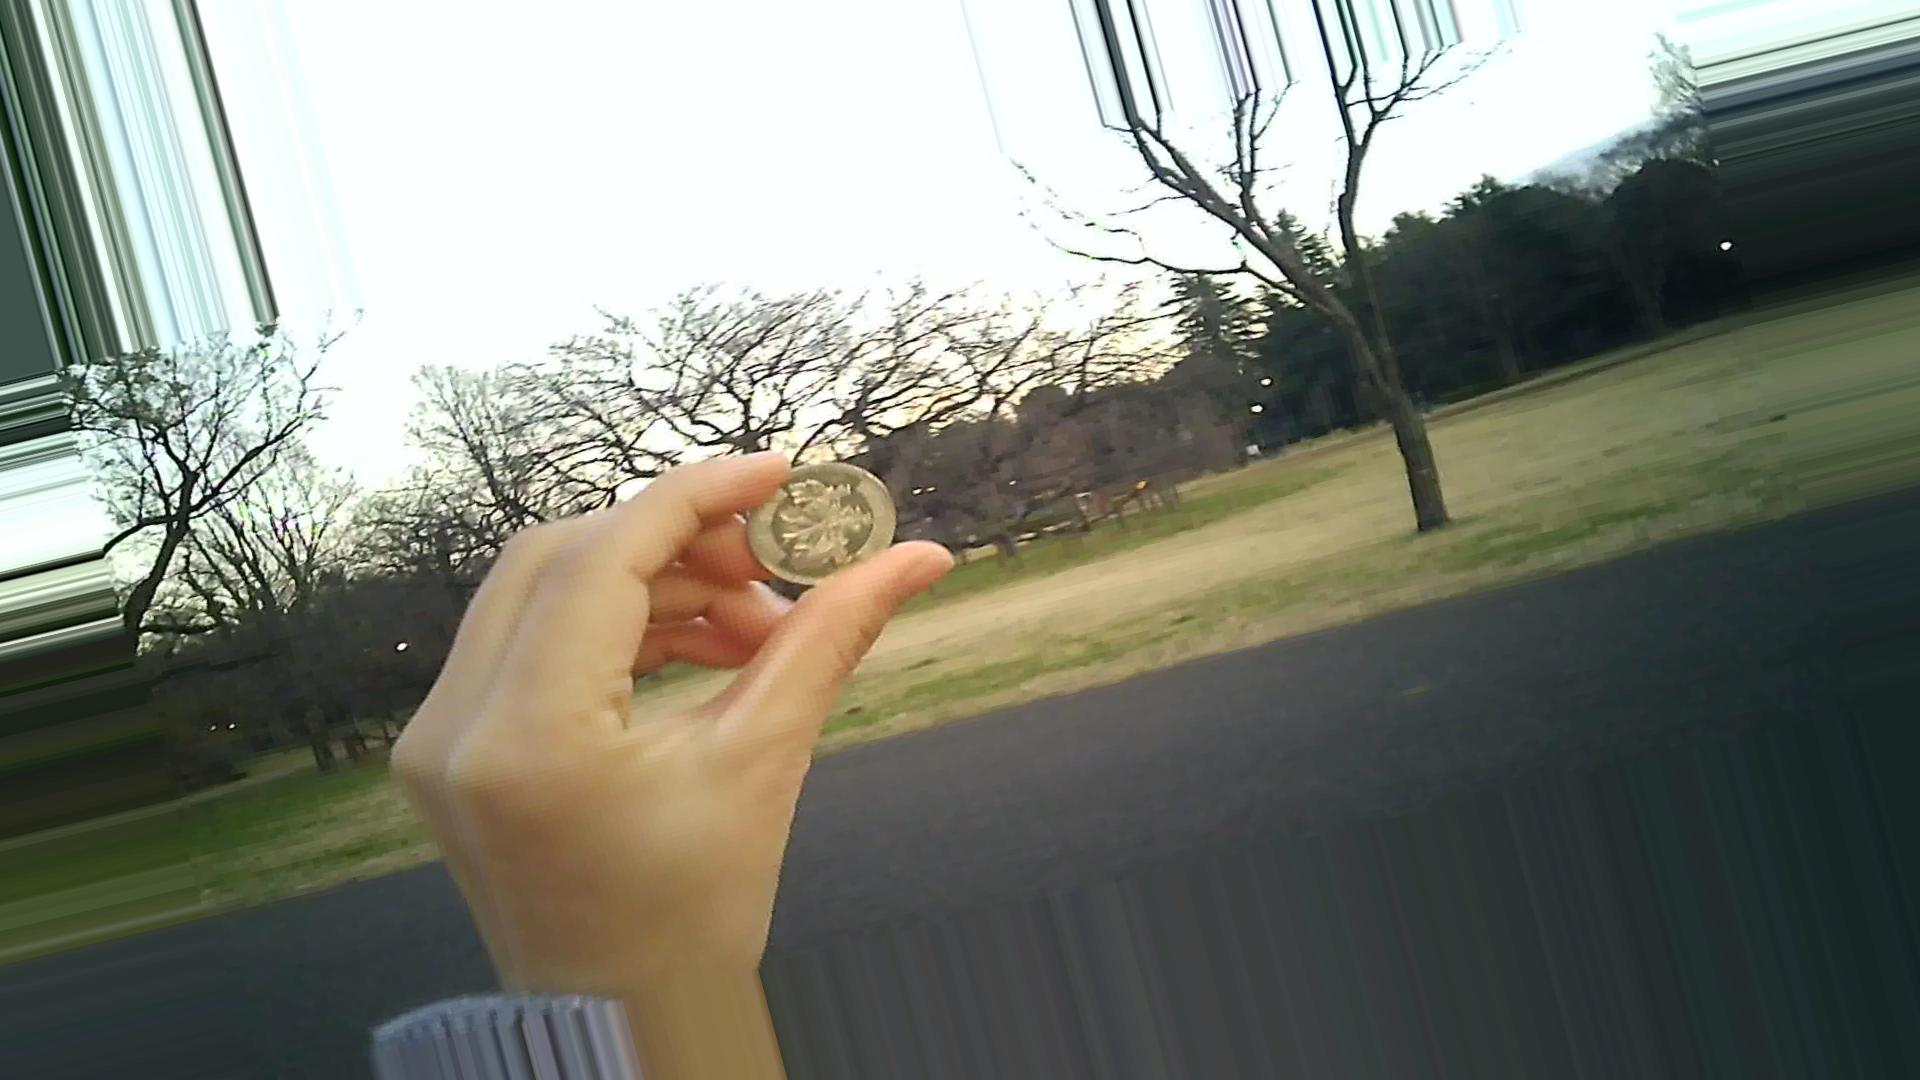500 Yen: (733, 451, 928, 593)
